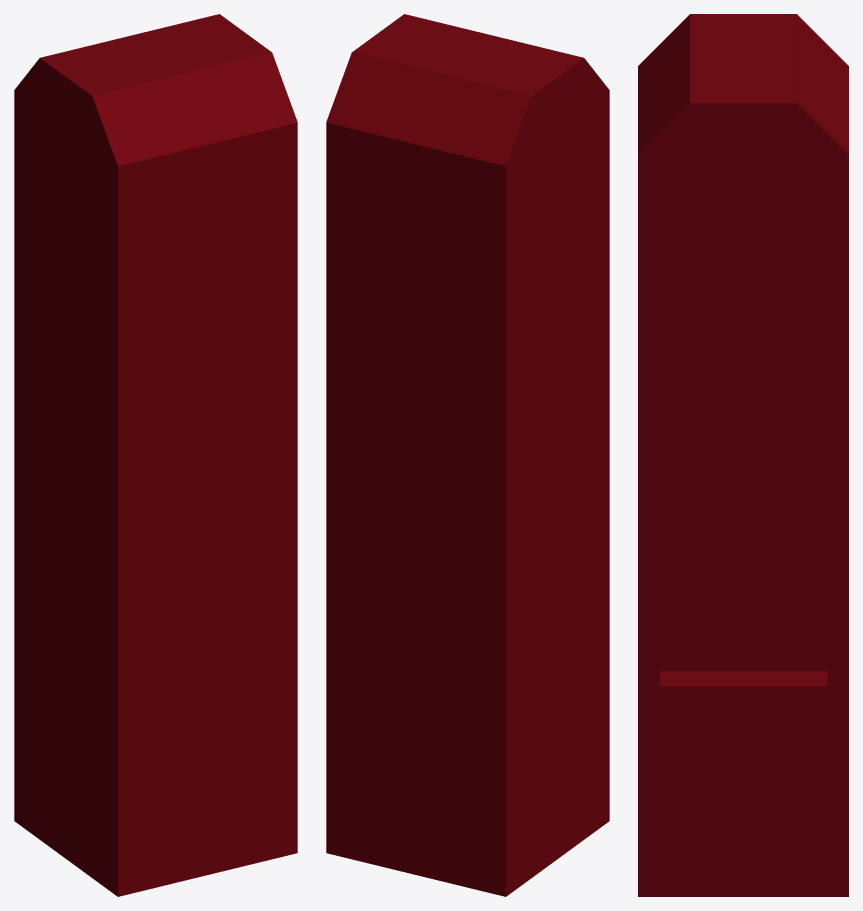
Rendered from BasePalanca.fbx.
The picture shows the model from 3 angles, left to right: view 1: azimuth 30°, elevation 25°; view 2: azimuth 150°, elevation 25°; view 3: azimuth 270°, elevation 25°; orthographic projection.
Parts seen in each view (by area): view 1: InterruptorPuente; view 2: InterruptorPuente; view 3: InterruptorPuente.
Boxes of the visible parts, bbox=[...] form: InterruptorPuente: bbox=[14, 14, 297, 896]; InterruptorPuente: bbox=[326, 14, 609, 896]; InterruptorPuente: bbox=[638, 14, 848, 896].
Size of the model in its own units: 52.29 by 217 by 52.29.
